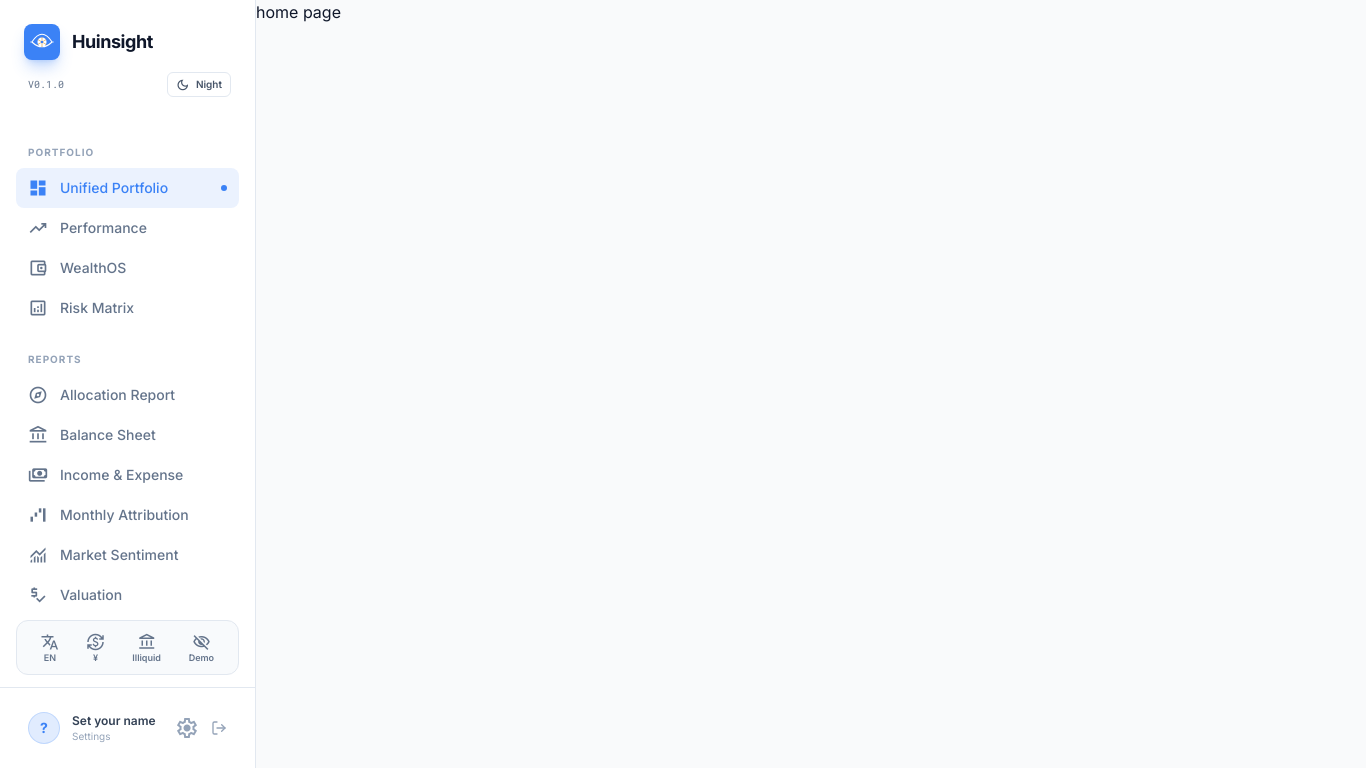
Test: layout theme toggle › toggles day/night and keeps navigation working
Click the button with aria-label "switch to night mode" at (199,84), box [167, 72, 231, 97]
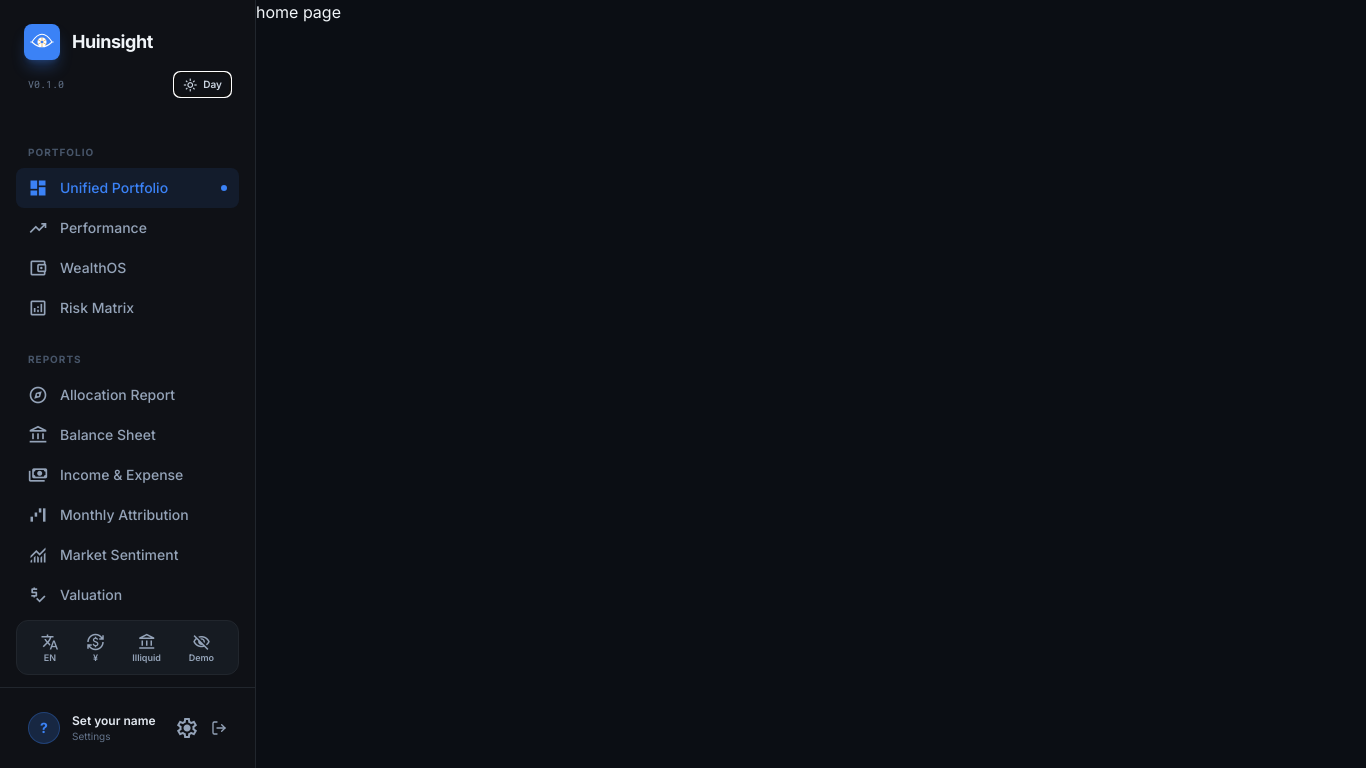
Click the text "Risk Matrix" at (97,308), box [60, 298, 134, 318]
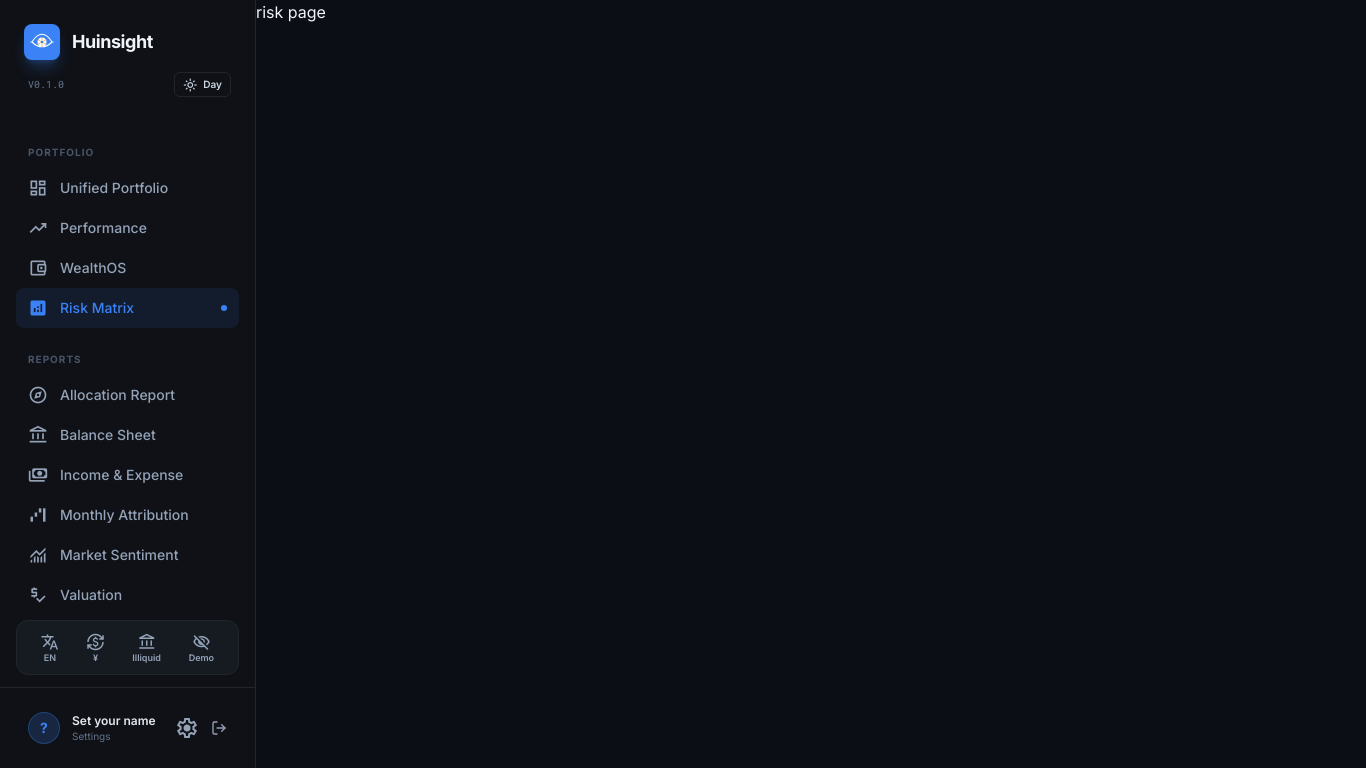
Expected: the text "risk page" is shown, [256, 2, 326, 22]
